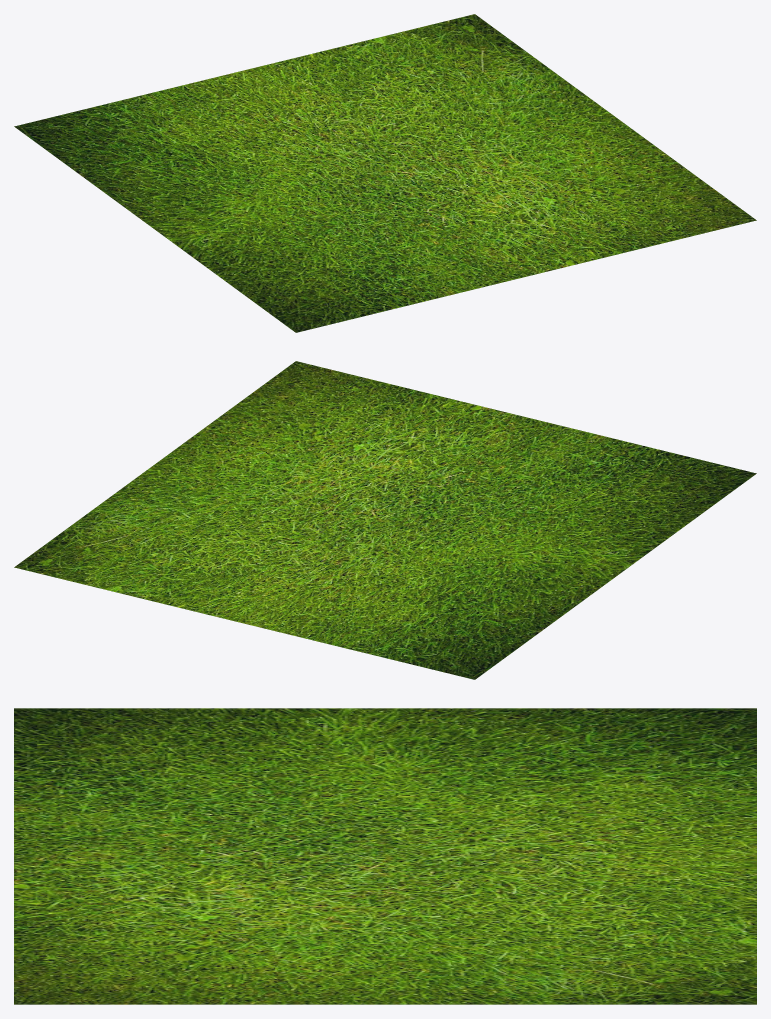
File: piso.obj
The picture shows the model from 3 angles, top to bottom: view 1: azimuth 30°, elevation 25°; view 2: azimuth 150°, elevation 25°; view 3: azimuth 270°, elevation 25°; orthographic projection. The views are drawn at different scales.
Parts seen in each view (by area): view 1: pPlane1; view 2: pPlane1; view 3: pPlane1.
Part boxes in pixels (x1,y1,x2,y2): pPlane1: (14, 14, 756, 332); pPlane1: (14, 361, 756, 679); pPlane1: (14, 708, 756, 1004).
Size of the model in its own units: 18.86 by 0 by 19.98.
